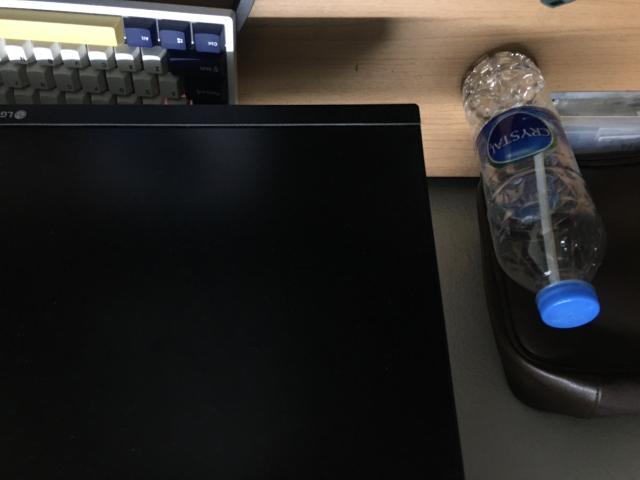bottle: (462, 51, 606, 329)
